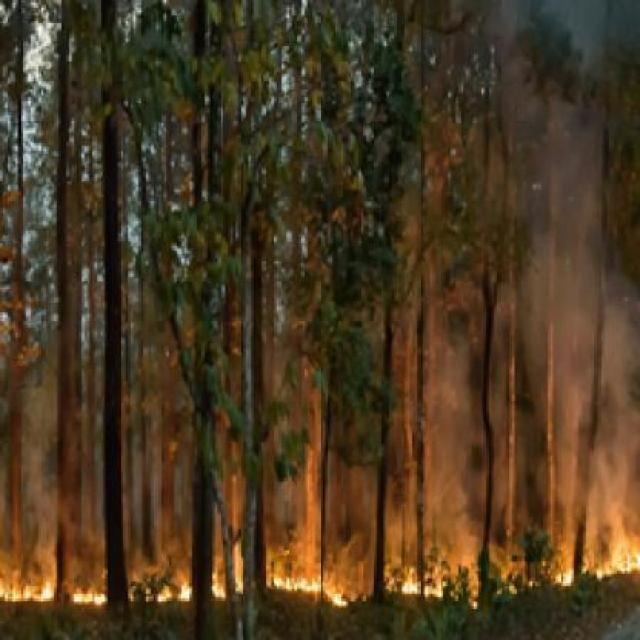Fire: (104, 532, 478, 630), (453, 515, 640, 613), (0, 559, 114, 630)
Smoke: (416, 30, 640, 541)
